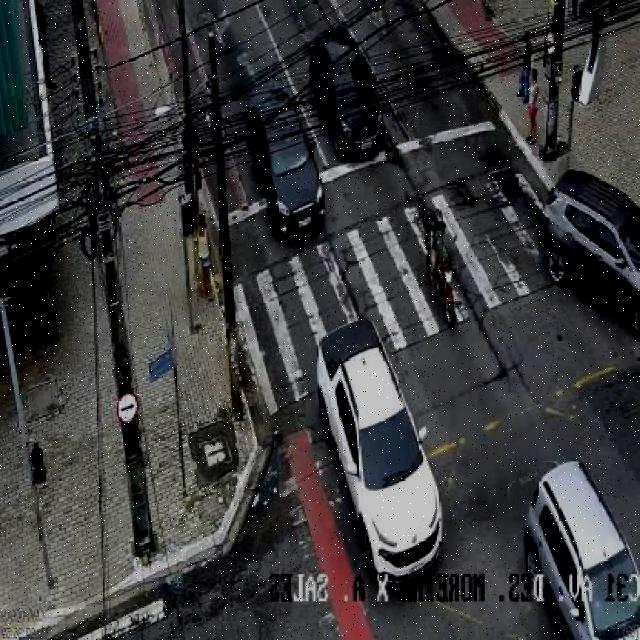car: (319, 318, 444, 586), (524, 458, 638, 640), (246, 88, 323, 240), (310, 26, 384, 156)
motorbike: (424, 208, 458, 327), (198, 214, 215, 298), (517, 31, 534, 104), (525, 68, 541, 144)
